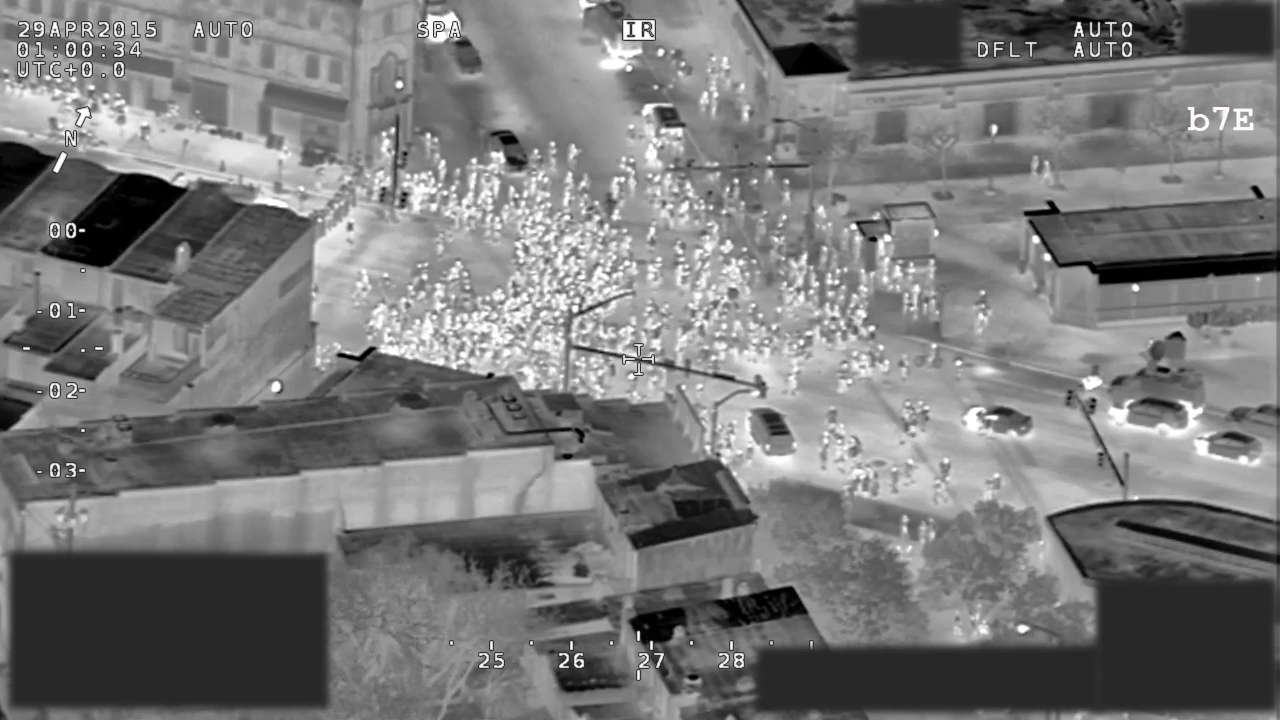vehicle: (1106, 336, 1208, 419), (581, 2, 647, 62), (745, 403, 800, 458), (1191, 430, 1265, 467), (961, 403, 1036, 438), (482, 125, 531, 175), (638, 99, 688, 146), (1117, 396, 1188, 429), (444, 32, 484, 77)
